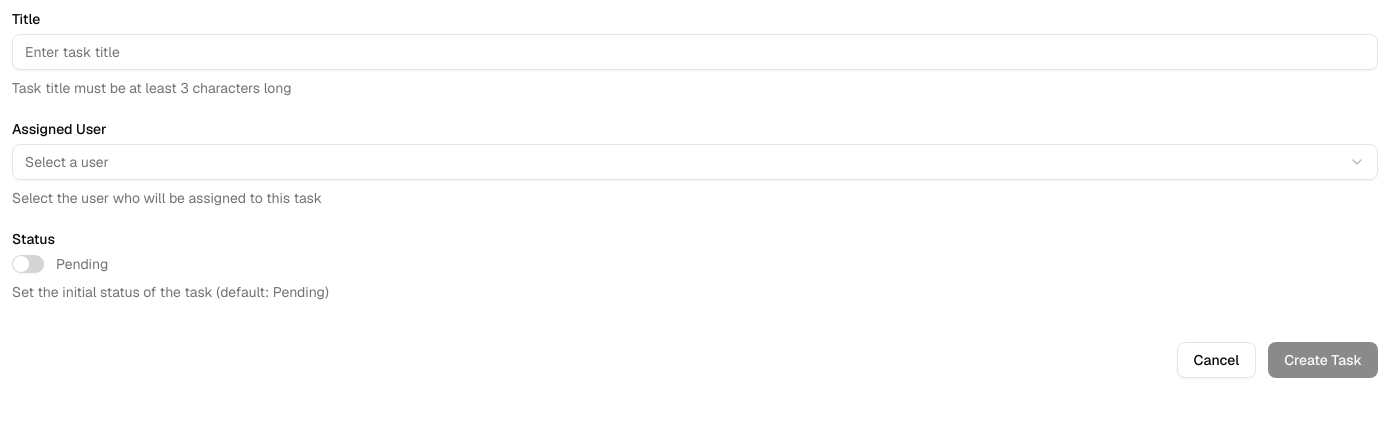
Scenario: Task Form › Validation › should show error for title less than 3 characters
The width and height of the screenshot is (1390, 423).
Type "Ab" into the field with placeholder "Enter task title" at point(695, 52), box [12,34,1378,70]
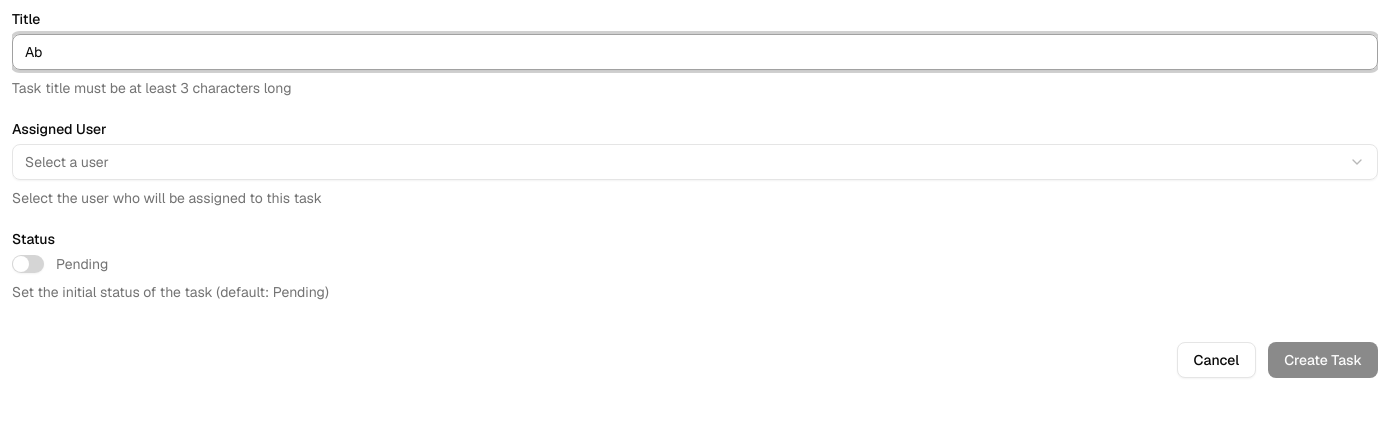
Press Tab
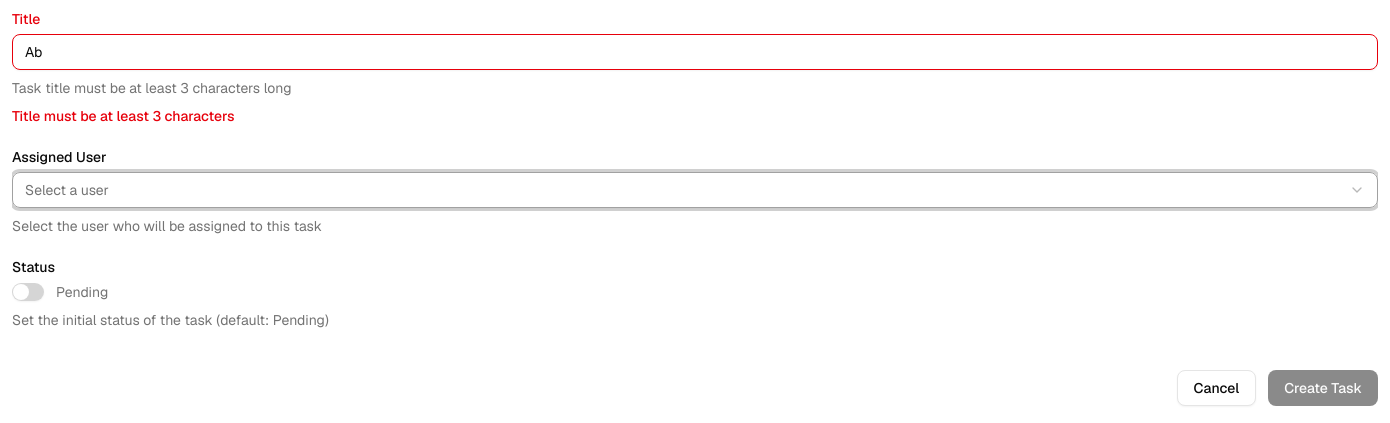
Check: the text "Title must be at least 3 characters" is shown, box [12,107,234,125]
